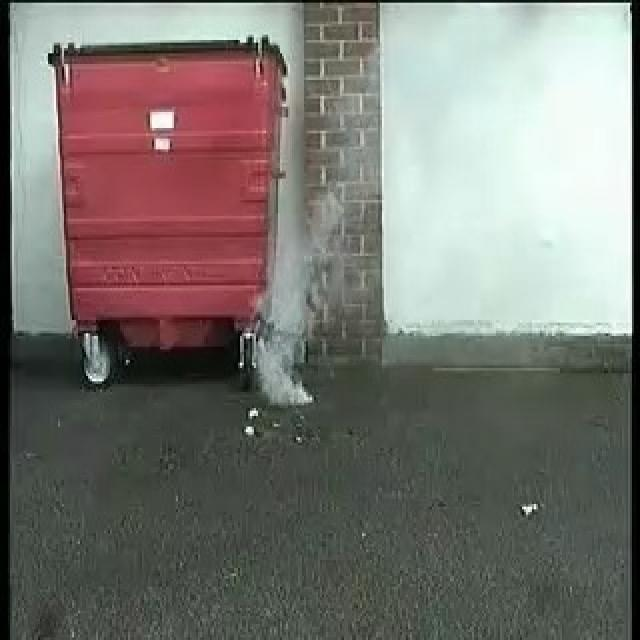smoke: (247, 250, 324, 406)
